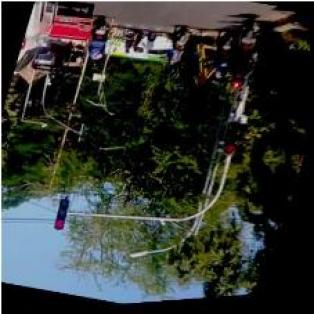Semaforo Rojo: (224, 126, 244, 160), (53, 199, 73, 232)
